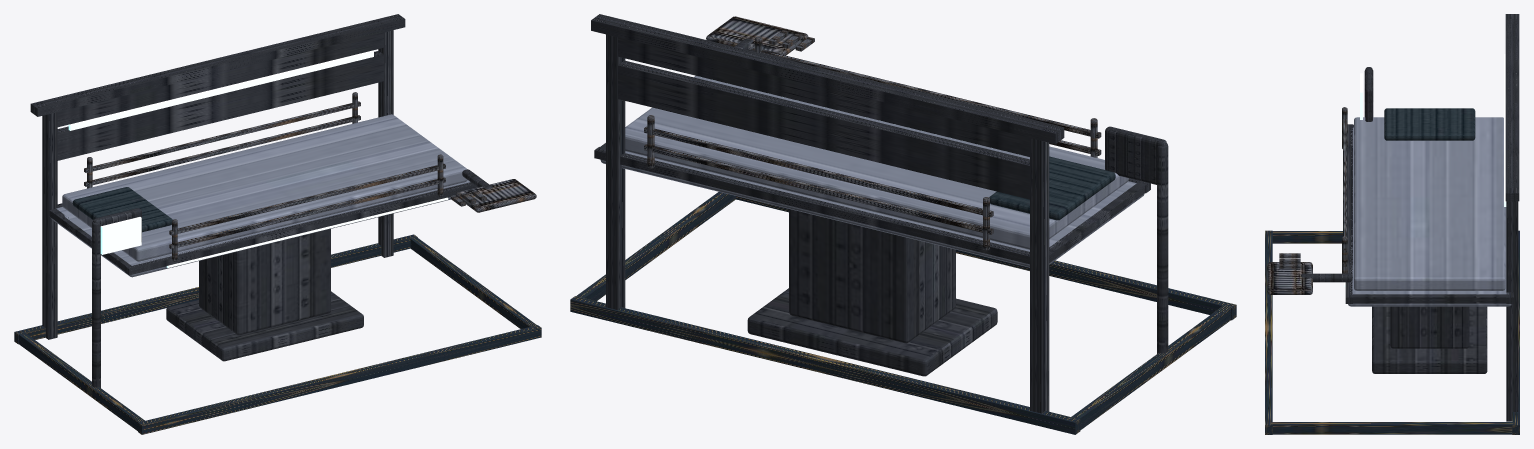
File: med_surgery.glb
3 renders of one model, left to right at view 1: azimuth 30°, elevation 25°; view 2: azimuth 150°, elevation 25°; view 3: azimuth 270°, elevation 25°, orthographic. The views are drawn at different scales.
Visible parts, largest first — view 1: sight_shell, mattress, column, shelltoe0, plinth, shellrim0, shelltoe2, sightglow, headrest, shelltoes0, shelltoes2, frame (+10 smaller); view 2: sight_shell, mattress, column, shelltoe2, plinth, shellrim2, frame, shelltoe0, headrest, shelltoes0, shelltoes2, vital (+6 smaller); view 3: mattress, sight_shell, plinth, column, shelltoes2, headrest, frame, shellrims2, shelltoe0, tray, shellrim0, shelltoes0 (+5 smaller).
Part boxes in pixels (bbox=[...]): sight_shell: bbox=[30, 14, 405, 339]; mattress: bbox=[62, 114, 467, 261]; column: bbox=[199, 229, 330, 334]; shelltoe0: bbox=[138, 325, 541, 434]; plinth: bbox=[166, 291, 363, 361]; shellrim0: bbox=[125, 182, 477, 275]; shelltoe2: bbox=[14, 234, 417, 344]; sightglow: bbox=[68, 50, 373, 130]; headrest: bbox=[72, 187, 172, 232]; shelltoes0: bbox=[18, 332, 144, 430]; shelltoes2: bbox=[410, 236, 537, 328]; frame: bbox=[51, 180, 470, 277]; sight_shell: bbox=[591, 14, 1064, 413]; mattress: bbox=[625, 76, 1128, 249]; column: bbox=[789, 209, 955, 343]; shelltoe2: bbox=[570, 296, 1080, 434]; plinth: bbox=[747, 288, 997, 376]; shellrim2: bbox=[594, 147, 1029, 264]; frame: bbox=[600, 151, 1144, 267]; shelltoe0: bbox=[736, 196, 1236, 320]; headrest: bbox=[989, 156, 1115, 220]; shelltoes0: bbox=[1070, 305, 1231, 430]; shelltoes2: bbox=[576, 192, 735, 301]; vital: bbox=[1105, 126, 1166, 184]; mattress: bbox=[1354, 117, 1505, 290]; sight_shell: bbox=[1505, 14, 1519, 421]; plinth: bbox=[1372, 306, 1487, 373]; column: bbox=[1390, 306, 1469, 348]; shelltoes2: bbox=[1270, 422, 1514, 434]; headrest: bbox=[1384, 108, 1475, 140]; frame: bbox=[1348, 127, 1511, 306]; shellrims2: bbox=[1350, 294, 1508, 303]; shelltoe0: bbox=[1265, 230, 1272, 434]; tray: bbox=[1267, 262, 1312, 294]; shellrim0: bbox=[1345, 124, 1352, 303]; shelltoes0: bbox=[1272, 231, 1342, 243].
Bounding box in the file's own units: 3.04 × 1.7 × 1.68.
Materials: 8 (7 with a texture image).
